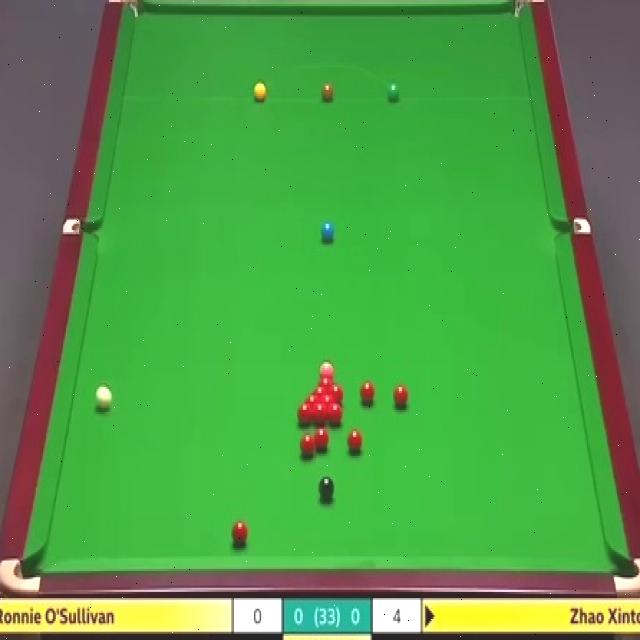black-ball: (318, 474, 335, 504)
blue-ball: (320, 221, 334, 246)
brown-ball: (320, 84, 334, 102)
green-ball: (386, 82, 401, 104)
pink-ball: (319, 360, 335, 376)
red-ball: (231, 519, 248, 548), (393, 384, 410, 411), (359, 379, 375, 406), (299, 433, 316, 458), (327, 403, 344, 426), (347, 430, 363, 454), (296, 403, 312, 426), (314, 428, 329, 451), (313, 402, 327, 424), (330, 385, 344, 404), (310, 385, 330, 395), (318, 376, 336, 386), (304, 394, 320, 404), (321, 394, 337, 403)
white-ball: (94, 382, 112, 414)
yellow-ball: (253, 81, 267, 103)
